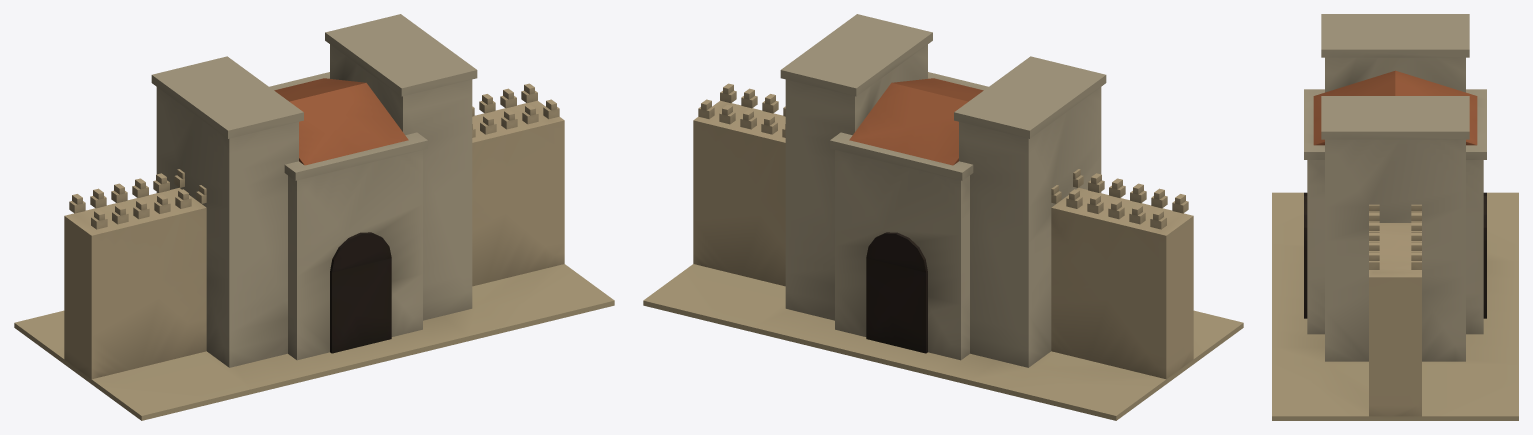
File: puerta-del-puente-roman.glb
3 renders of one model, left to right at view 1: azimuth 30°, elevation 25°; view 2: azimuth 150°, elevation 25°; view 3: azimuth 270°, elevation 25°, orthographic. The views are drawn at different scales.
Visible parts, largest first — view 1: p1_gate, p0_ground; view 2: p1_gate, p0_ground; view 3: p1_gate, p0_ground.
Part boxes in pixels (left/top/right/bottom): p1_gate: left=151, top=14, right=477, bottom=367; p0_ground: left=14, top=83, right=614, bottom=420; p1_gate: left=780, top=14, right=1106, bottom=367; p0_ground: left=643, top=83, right=1243, bottom=420; p1_gate: left=1304, top=14, right=1486, bottom=361; p0_ground: left=1272, top=192, right=1518, bottom=420.
Bounding box in the file's own units: 30 × 14.8 × 14.
